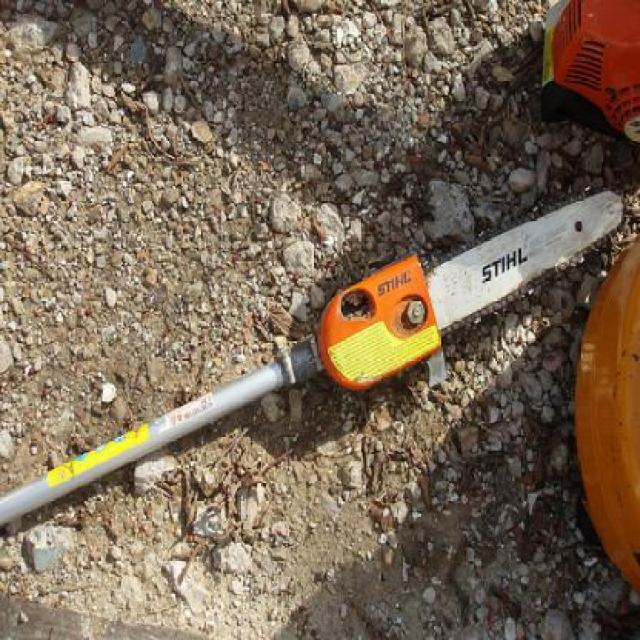Chainsaw: (0, 189, 626, 529)
